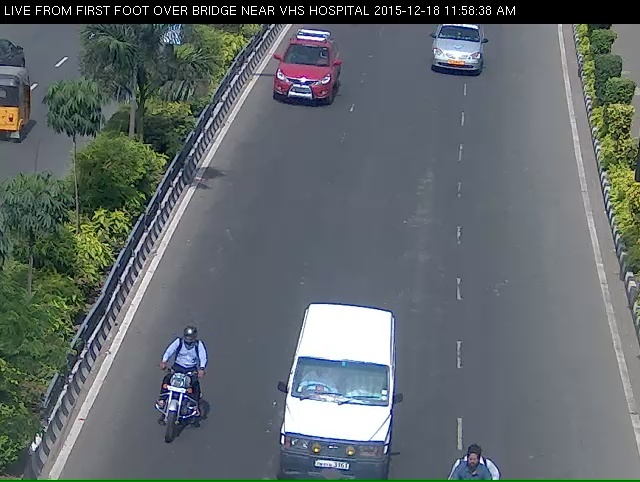Car: (281, 326, 389, 478), (264, 39, 339, 119), (421, 26, 485, 89)
Person: (127, 369, 183, 477)
